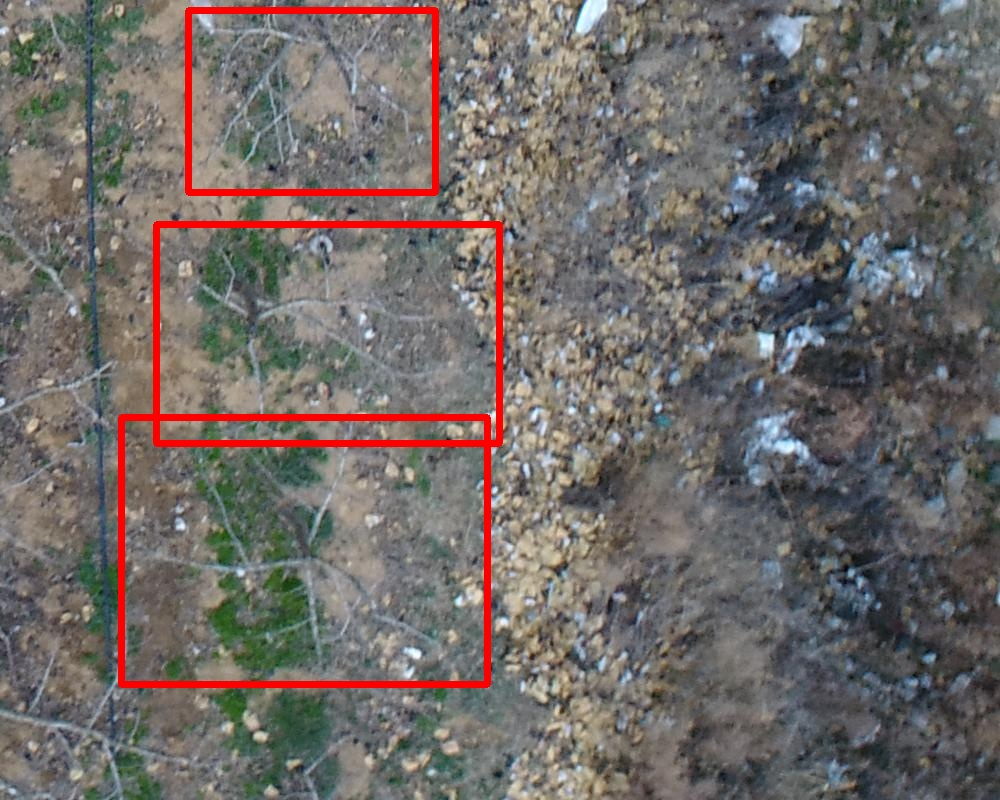apple: (121, 417, 487, 684), (156, 224, 499, 443), (188, 10, 435, 192)
